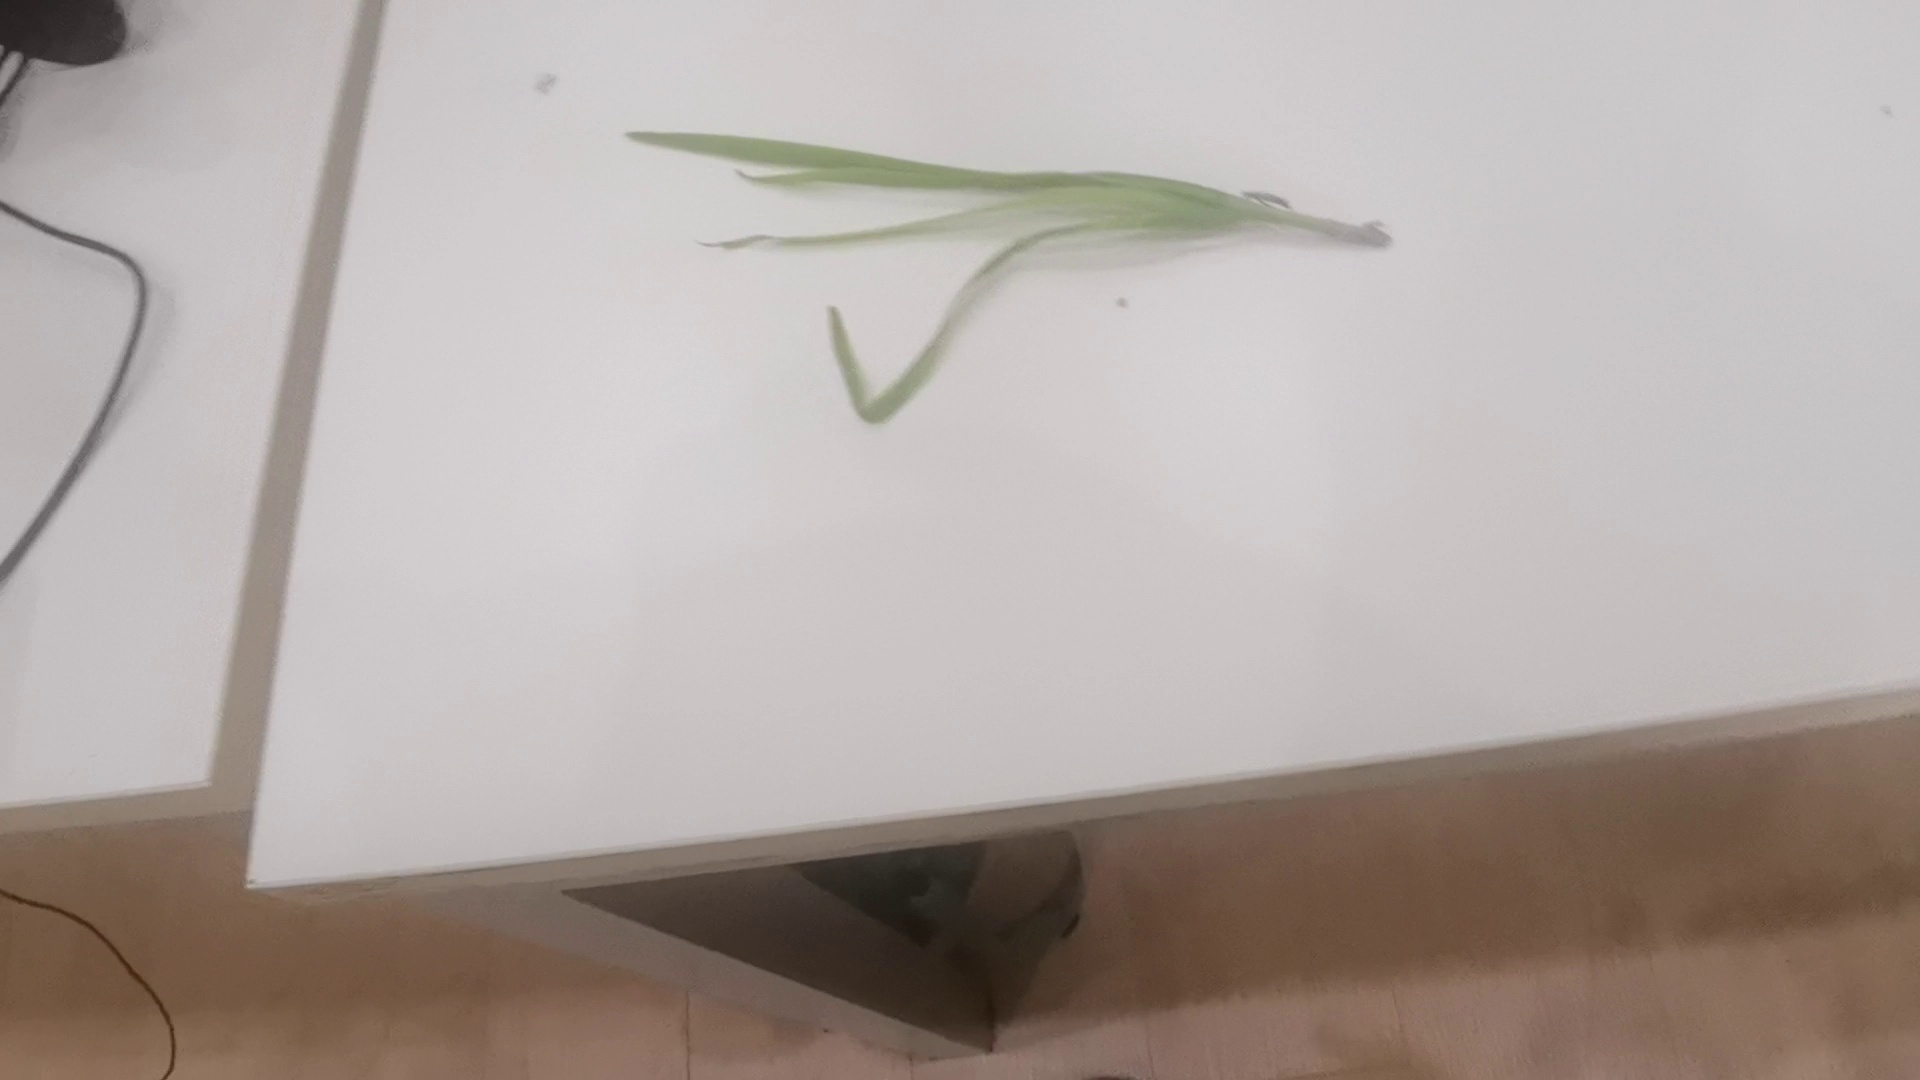chives: (622, 113, 1390, 429)
